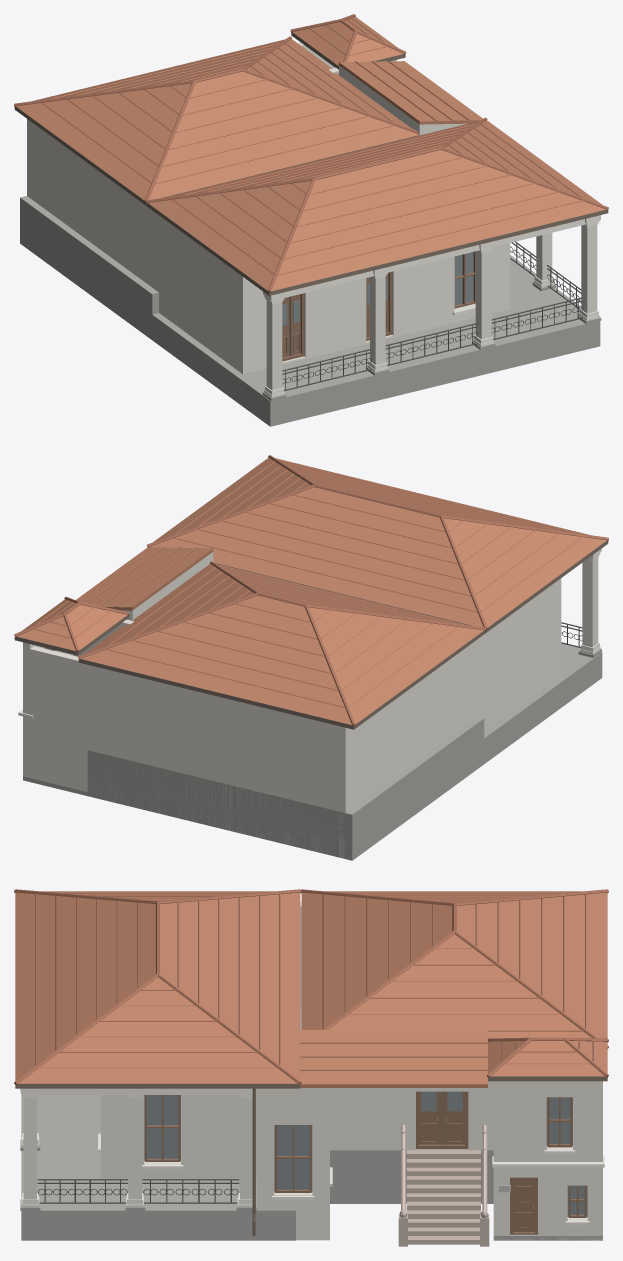
The model's file is xuhui-huaihai-road-1634-residence-lod.glb.
3 views of the same model, one above another, from view 1: azimuth 30°, elevation 25°; view 2: azimuth 150°, elevation 25°; view 3: azimuth 270°, elevation 25° (orthographic). The views are drawn at different scales.
Visible parts, largest first — view 1: 淮海中路1634号花园住宅（院内柱廊与错层入口）; view 2: 淮海中路1634号花园住宅（院内柱廊与错层入口）; view 3: 淮海中路1634号花园住宅（院内柱廊与错层入口）.
Boxes of the visible parts, x1,y1,x2,y2 form: 淮海中路1634号花园住宅（院内柱廊与错层入口）: (14,14,608,426); 淮海中路1634号花园住宅（院内柱廊与错层入口）: (14,455,608,860); 淮海中路1634号花园住宅（院内柱廊与错层入口）: (14,889,608,1246).
Bounding box in the file's own units: 14.59 × 7.39 × 18.73.
